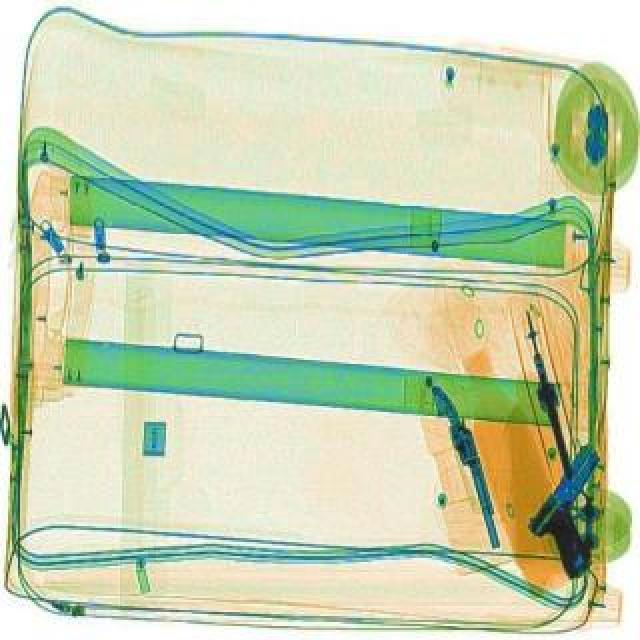gun: (420, 364, 516, 556), (518, 432, 634, 580)
